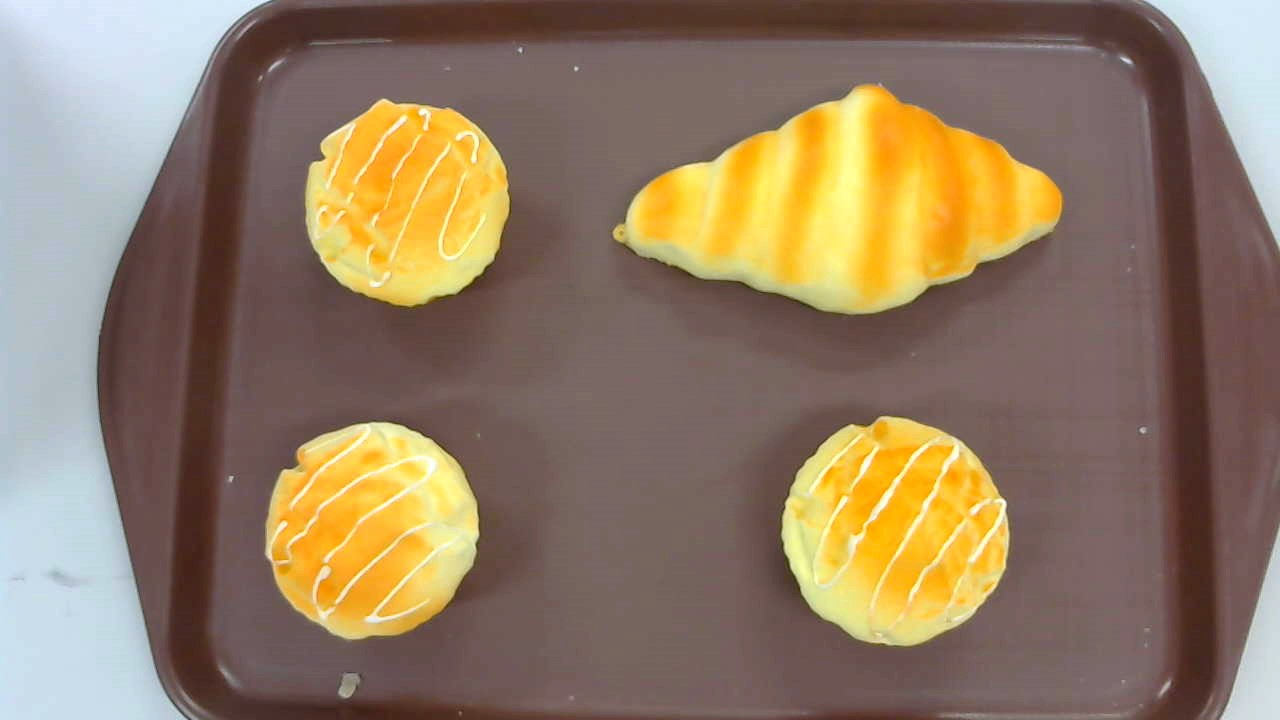croissant: (611, 84, 1063, 316)
cupcake: (780, 416, 1011, 647), (265, 422, 481, 641), (304, 97, 509, 308)
